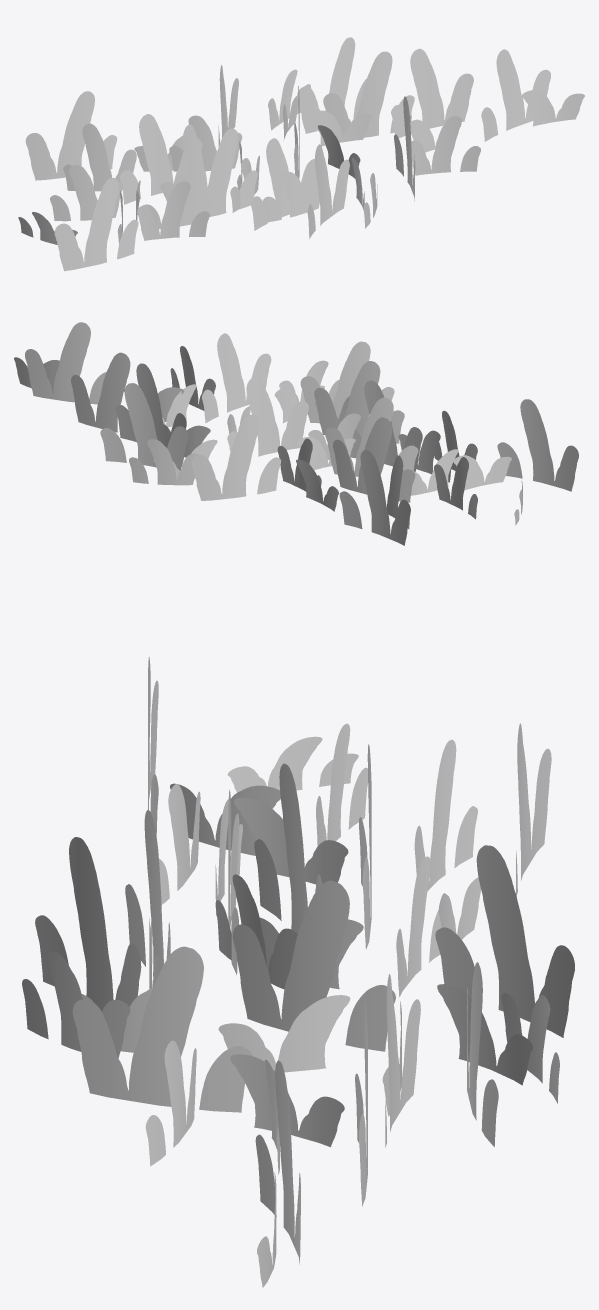
The model's file is BigGrass.fbx.
The picture shows the model from 3 angles, top to bottom: view 1: azimuth 30°, elevation 25°; view 2: azimuth 150°, elevation 25°; view 3: azimuth 270°, elevation 25°; orthographic projection. The views are drawn at different scales.
Parts seen in each view (by area): view 1: BigGrass; view 2: BigGrass; view 3: BigGrass.
Boxes of the visible parts, bbox=[...] form: BigGrass: bbox=[18, 37, 584, 271]; BigGrass: bbox=[14, 322, 578, 545]; BigGrass: bbox=[22, 657, 574, 1287].
Size of the model in its own units: 4001 by 633 by 1806.
